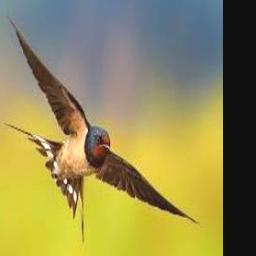Swallow: (5, 13, 199, 242)
